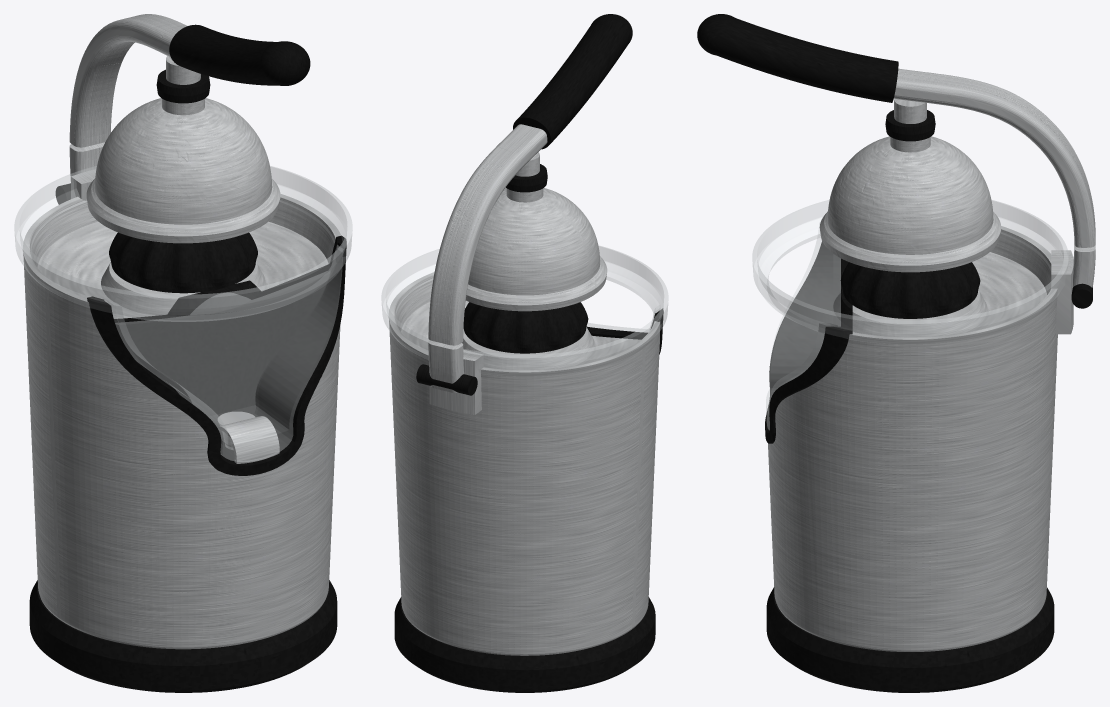
Rendered from press_standard.glb.
3 views of the same model, side by side, from view 1: azimuth 30°, elevation 25°; view 2: azimuth 150°, elevation 25°; view 3: azimuth 270°, elevation 25° (orthographic). The views are drawn at different scales.
Parts seen in each view (by area): view 1: Body, Base, JuiceFunnel, HandleGrip; view 2: Body, Base, JuiceFunnel, HandleGrip; view 3: Body, Base, JuiceFunnel, HandleGrip.
Boxes of the visible parts, x1,y1,x2,y2 form: Body: (23, 14, 341, 649); Base: (29, 69, 346, 692); JuiceFunnel: (14, 166, 352, 461); HandleGrip: (169, 24, 310, 85); Body: (389, 124, 660, 655); Base: (394, 164, 663, 692); JuiceFunnel: (381, 245, 668, 376); HandleGrip: (513, 14, 632, 149); Body: (768, 68, 1095, 651); Base: (765, 110, 1092, 692); JuiceFunnel: (752, 200, 1068, 429); HandleGrip: (697, 14, 898, 102).
Bounding box in the file's own units: 0.164 × 0.3535 × 0.2065.
Materials: 4 (3 with a texture image).
